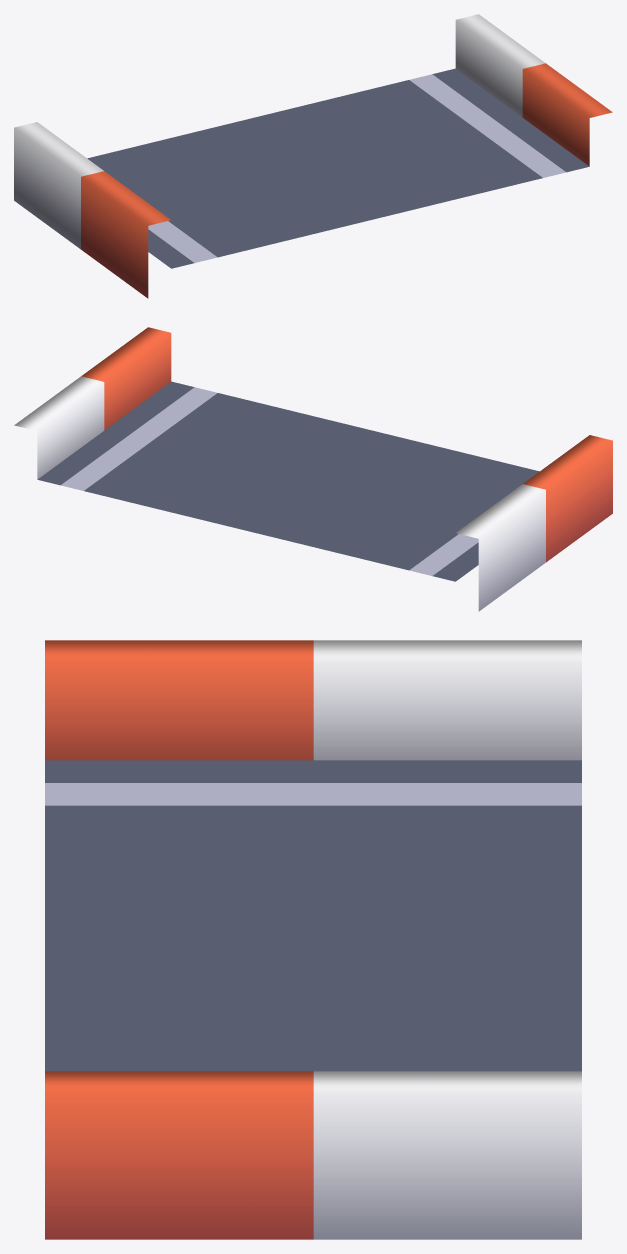
The model's file is kenney-toy-car-track-road-wide.glb.
3 renders of one model, top to bottom at view 1: azimuth 30°, elevation 25°; view 2: azimuth 150°, elevation 25°; view 3: azimuth 270°, elevation 25°, orthographic. The views are drawn at different scales.
Parts seen in each view (by area): view 1: track-road-wide; view 2: track-road-wide; view 3: track-road-wide.
Boxes of the visible parts, x1,y1,x2,y2 form: track-road-wide: (14,14,612,298); track-road-wide: (14,327,612,611); track-road-wide: (45,640,581,1239).
Bounding box in the file's own units: 2 × 0.3001 × 1.
Materials: 1 (1 with a texture image).
